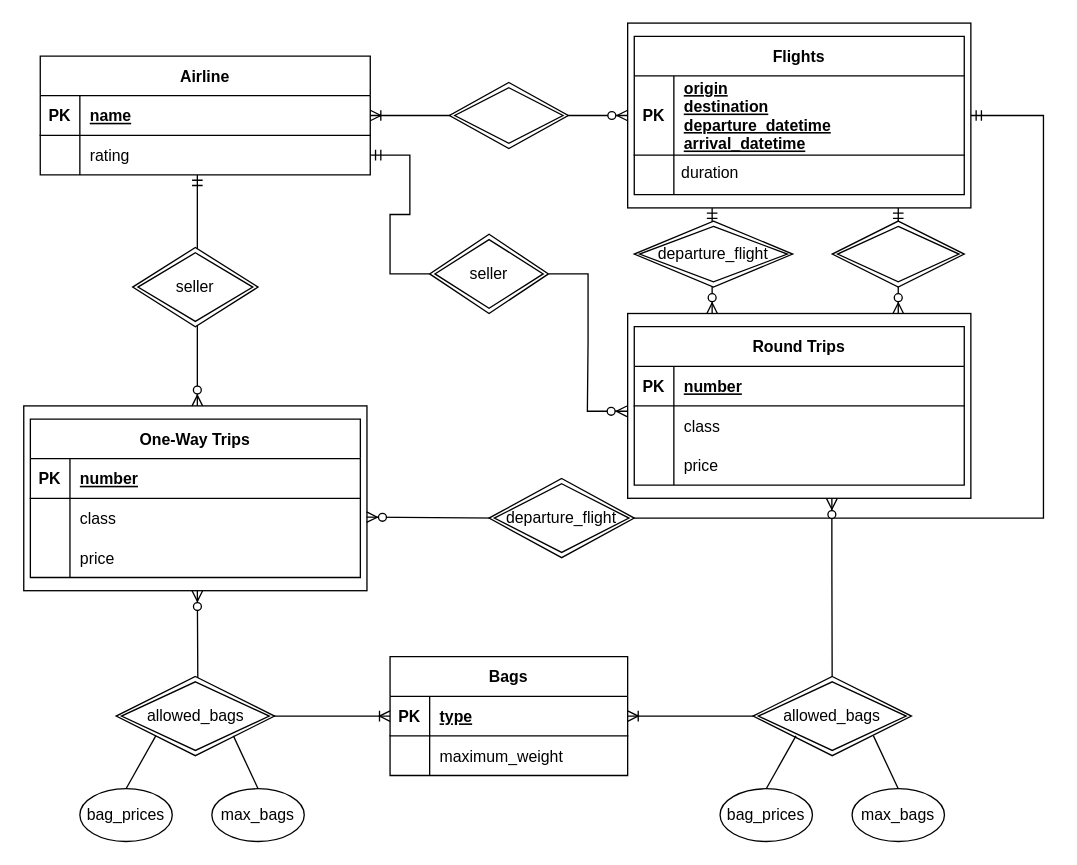
Image size: 1077x865. Some labels were removed from this diagram. The shapes that lost their labels are listed below. From the top down, each one's centre as x and y in pixels, then its label:
the point at 508,114: operator
the point at 897,253: return_flight
